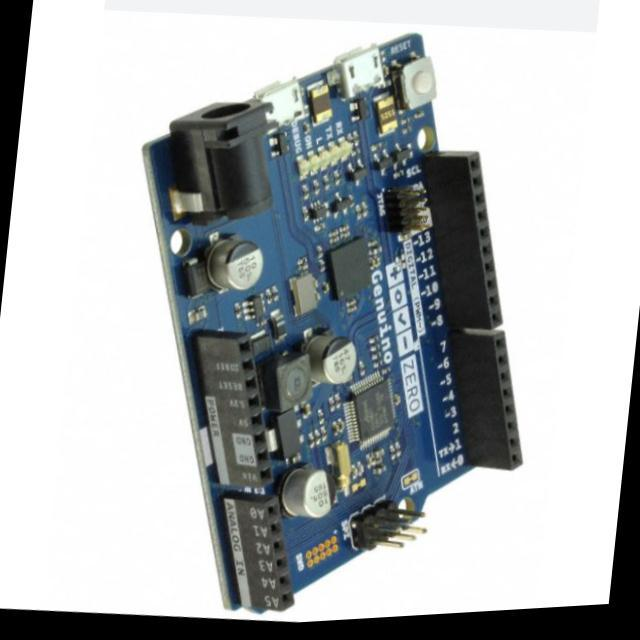Arduino-Zero: (145, 33, 523, 612)
